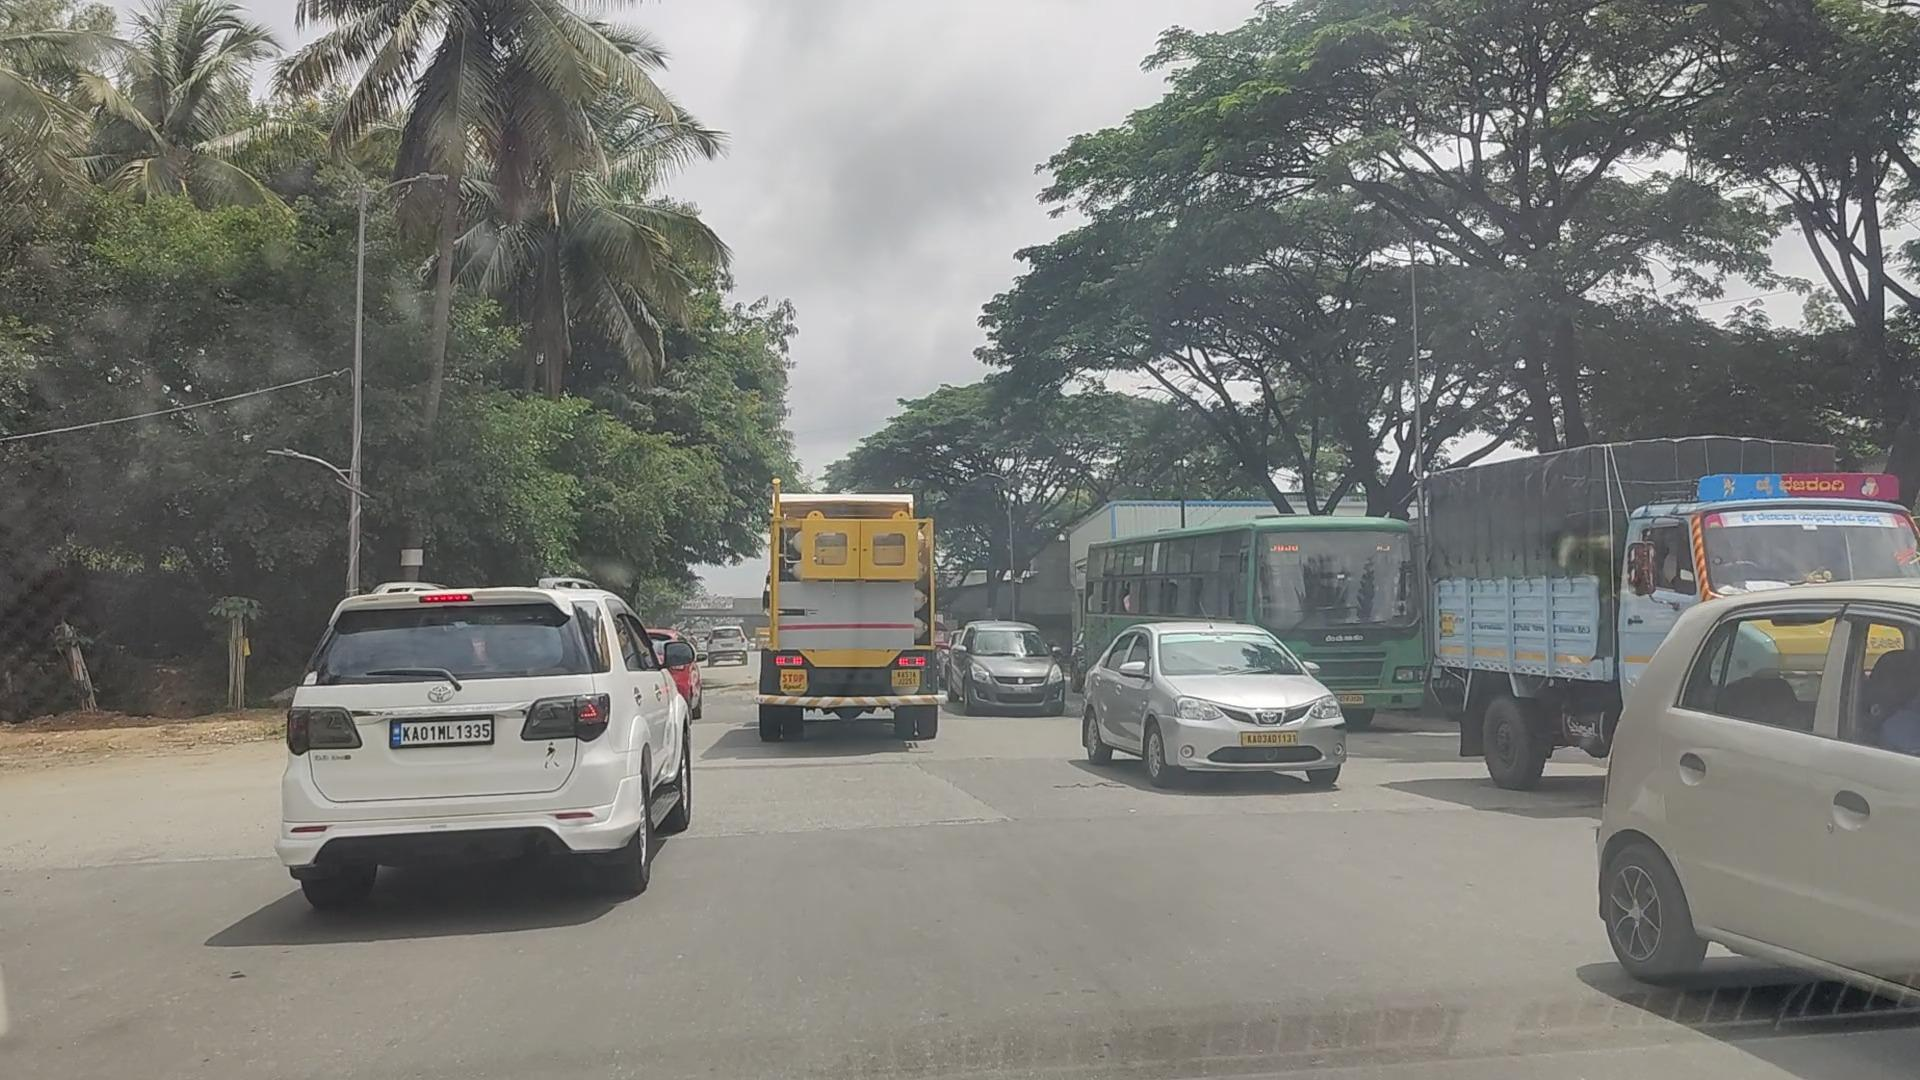HMV: (760, 491, 939, 728)
LMV: (277, 584, 686, 885)
RoadDamages: (757, 781, 1019, 851)
